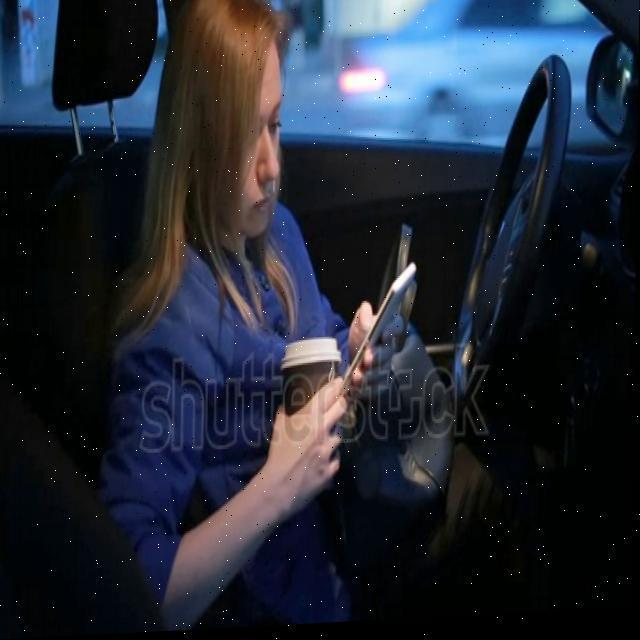Drinking: (278, 338, 342, 491)
PhoneCall: (336, 269, 418, 407)
